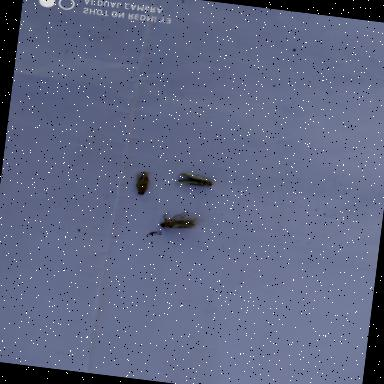pbw: (154, 206, 200, 238), (173, 169, 215, 191), (129, 168, 152, 199)
